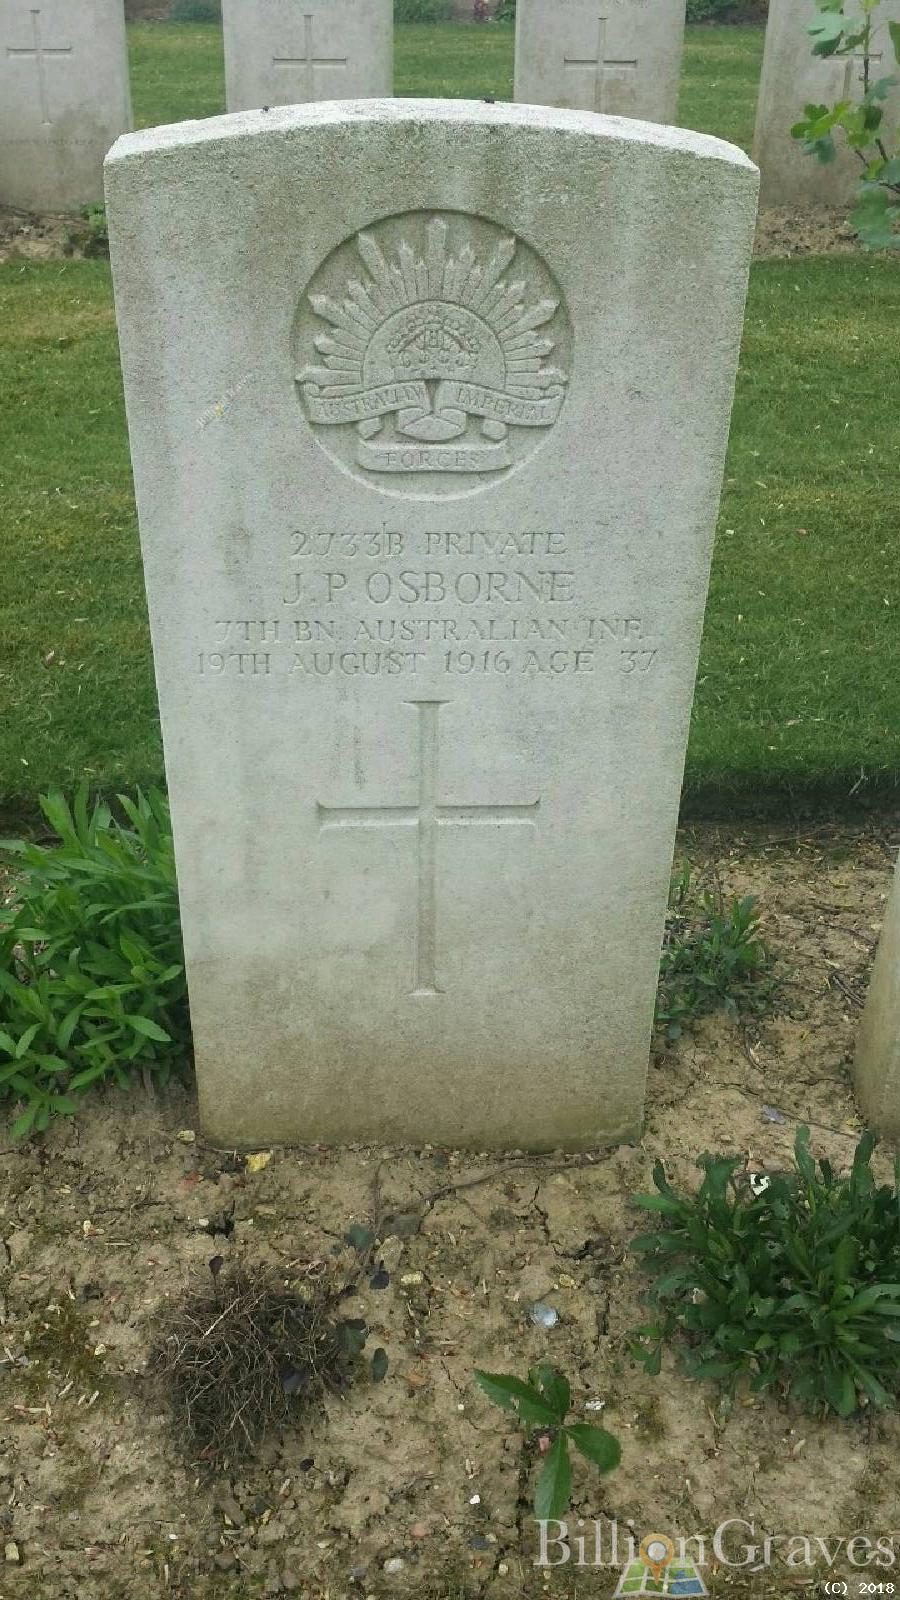upright: (105, 87, 766, 1167)
